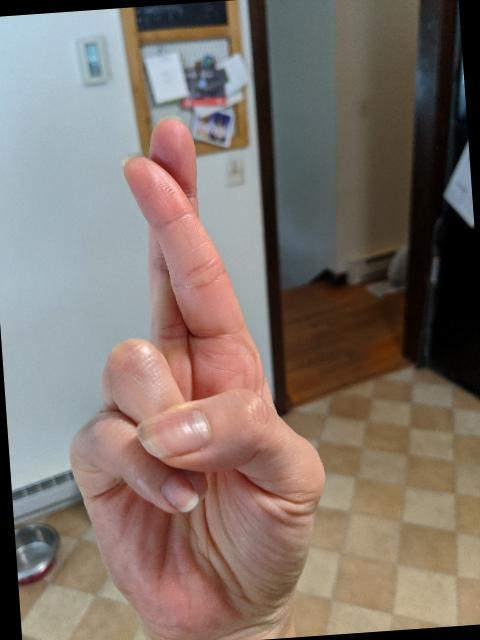R: (41, 99, 342, 640)
